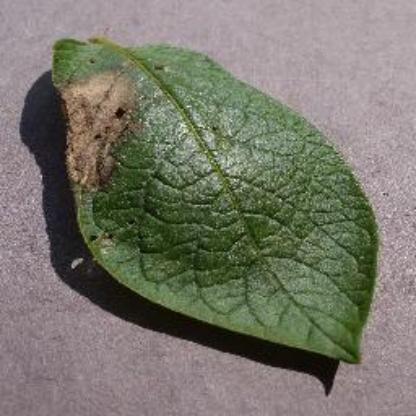Late-Blight: (41, 22, 384, 376)
